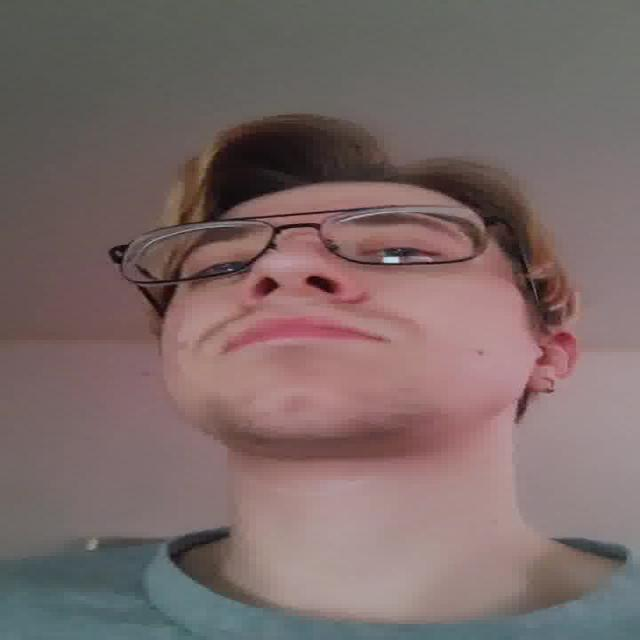earlobe: (526, 325, 582, 396)
